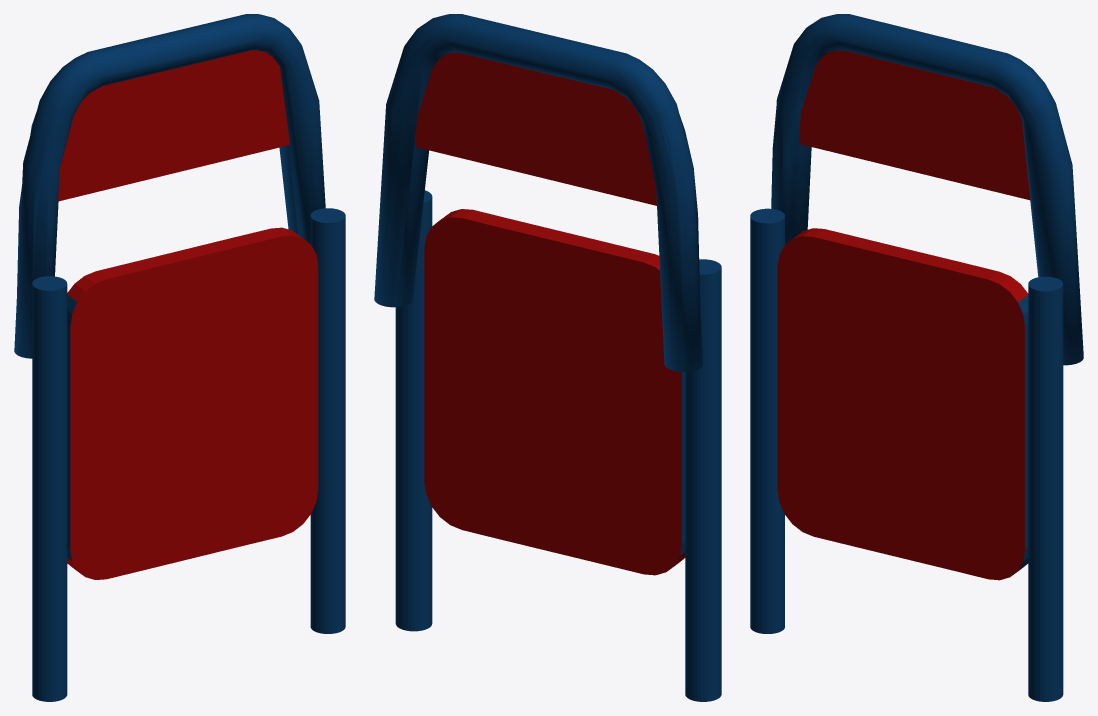
File: chairs.fbx
The picture shows the model from 3 angles, left to right: view 1: azimuth 30°, elevation 25°; view 2: azimuth 150°, elevation 25°; view 3: azimuth 330°, elevation 25°; orthographic projection. The views are drawn at different scales.
Visible parts, largest first — view 1: Cube.001; view 2: Cube.001; view 3: Cube.001.
Part boxes in pixels (<box>): Cube.001: <box>14,14,345,701</box>; Cube.001: <box>374,14,721,701</box>; Cube.001: <box>750,14,1083,701</box>.
Size of the model in its own units: 217 by 409 by 43.33.
